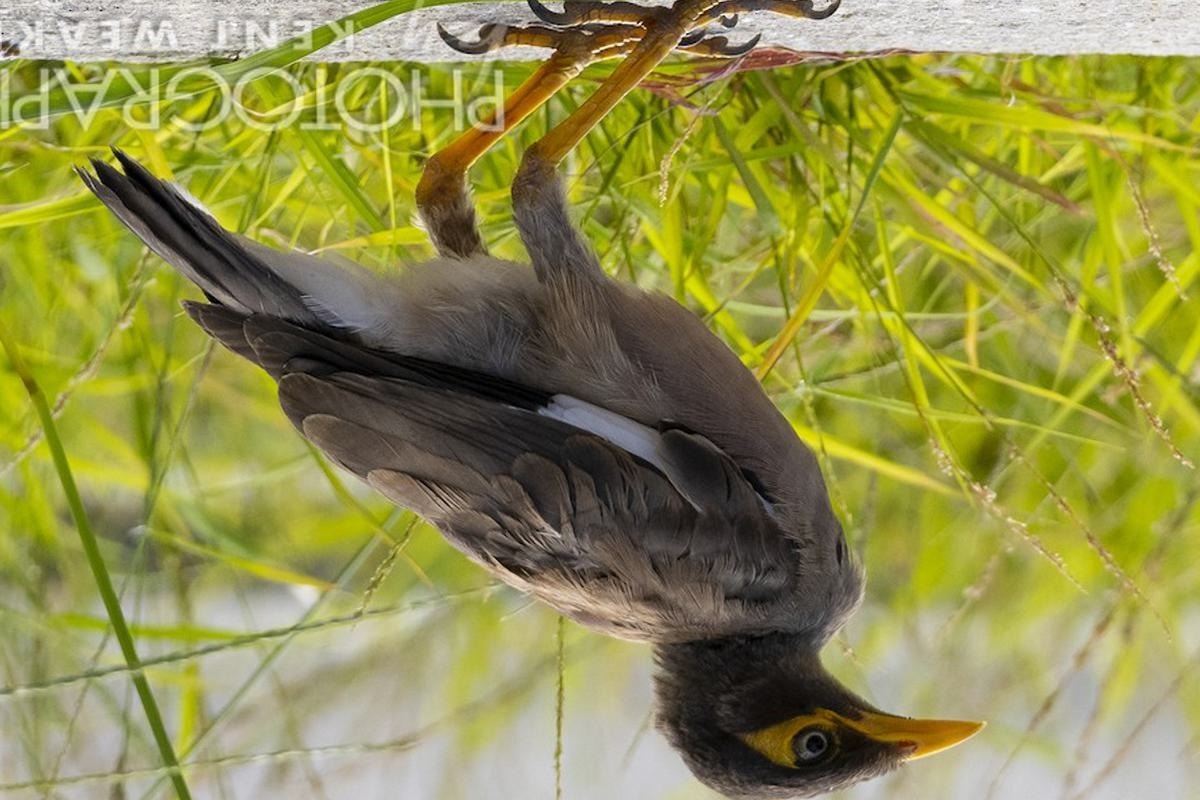myna: (184, 98, 988, 792)
